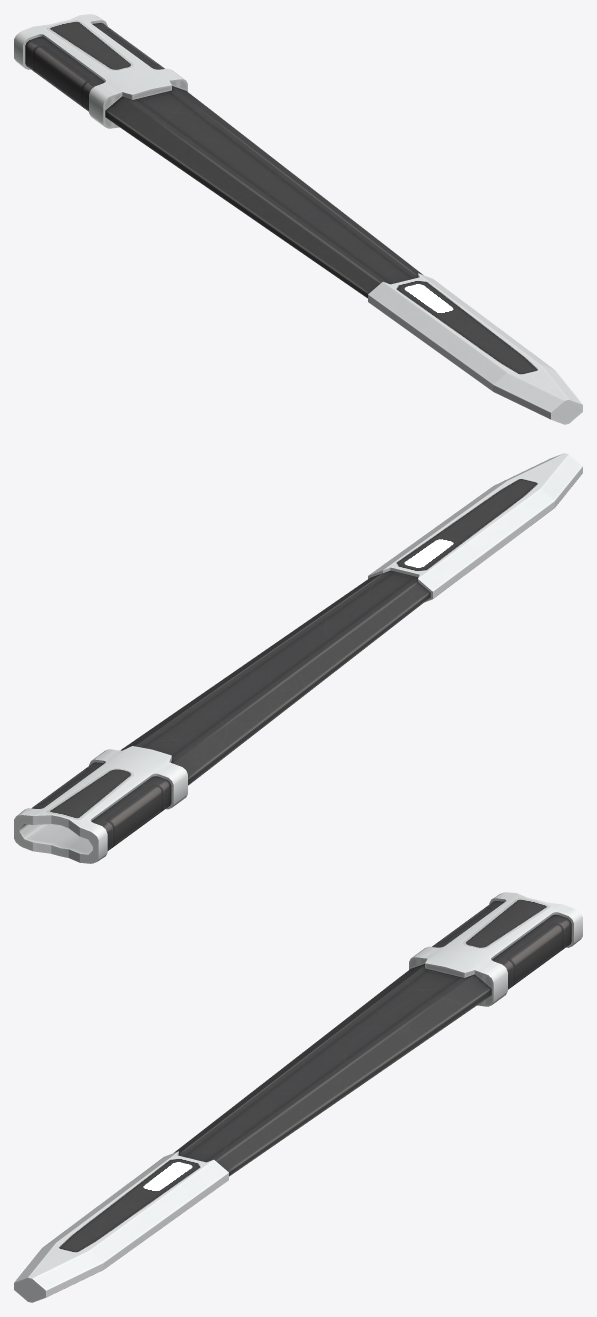
File: MeleeSword02_2.FBX
The picture shows the model from 3 angles, top to bottom: view 1: azimuth 30°, elevation 25°; view 2: azimuth 150°, elevation 25°; view 3: azimuth 330°, elevation 25°; orthographic projection.
Parts seen in each view (by area): view 1: MeleeSword02_2; view 2: MeleeSword02_2; view 3: MeleeSword02_2.
Boxes of the visible parts, x1,y1,x2,y2 form: MeleeSword02_2: (14,14,582,424); MeleeSword02_2: (14,453,582,863); MeleeSword02_2: (14,892,582,1302).
Size of what is drawn, in the model's own units: 0.0879 by 0.0391 by 0.9171.
